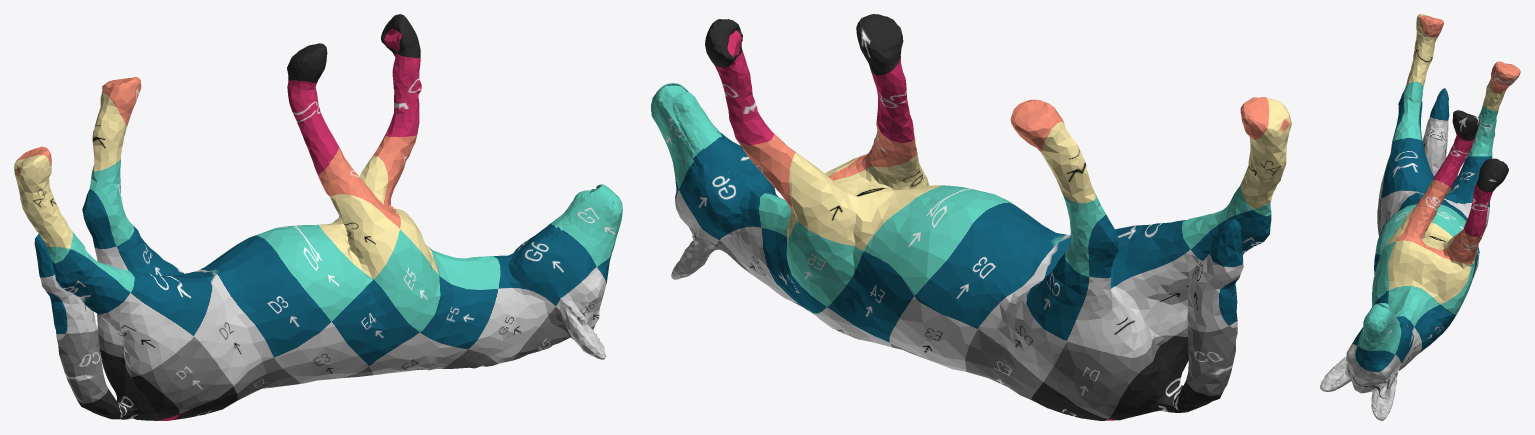
File: horse_08-horse_04.obj
3 renders of one model, left to right at view 1: azimuth 30°, elevation 25°; view 2: azimuth 150°, elevation 25°; view 3: azimuth 270°, elevation 25°, orthographic. The views are drawn at different scales.
Parts seen in each view (by area): view 1: horse_08-horse_04_export; view 2: horse_08-horse_04_export; view 3: horse_08-horse_04_export.
Part boxes in pixels (x1,y1,x2,y2): horse_08-horse_04_export: [14, 14, 622, 420]; horse_08-horse_04_export: [651, 14, 1291, 420]; horse_08-horse_04_export: [1320, 14, 1520, 420].
Size of the model in its own units: 1.09 by 0.5769 by 0.4582.
